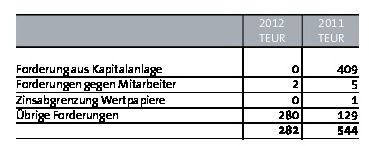table: (0, 0, 369, 146)
